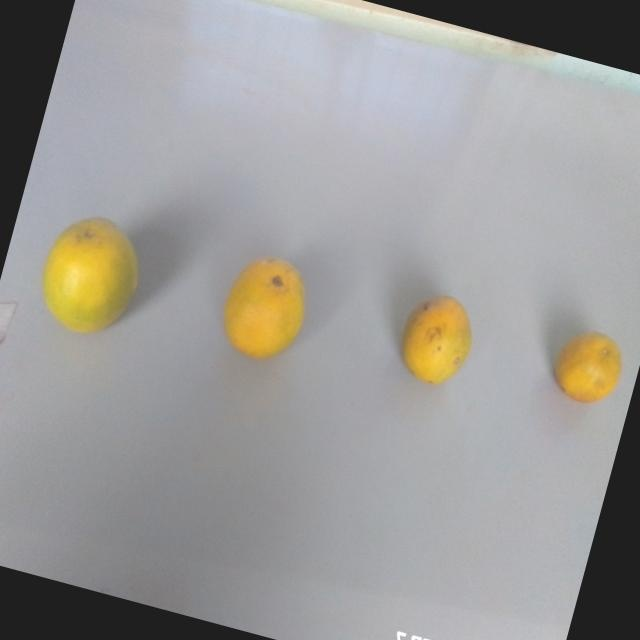agrume: (19, 200, 158, 358), (204, 235, 320, 373), (384, 275, 488, 398), (545, 315, 638, 420)
